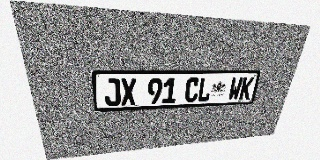1: (162, 78, 177, 104)
9: (147, 78, 163, 104)
C: (184, 78, 200, 103)
J: (103, 78, 121, 106)
K: (238, 77, 255, 100)
L: (197, 77, 213, 102)
W: (227, 77, 243, 100)
X: (120, 78, 136, 106)
